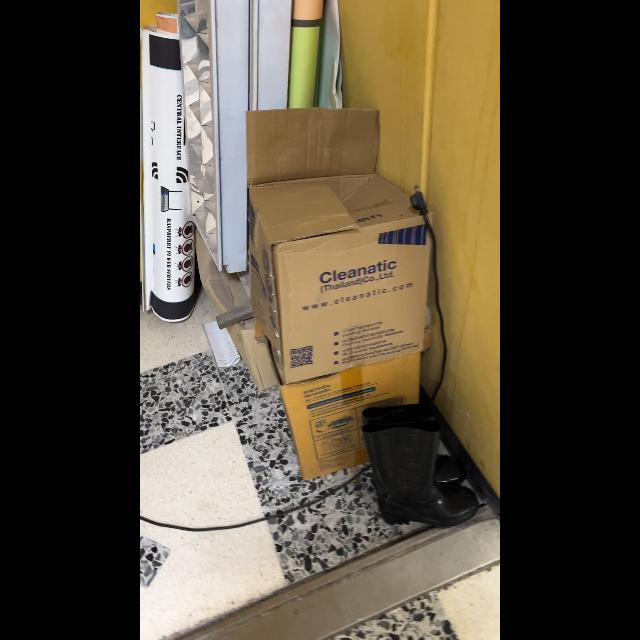cardboard_box: (245, 104, 429, 388), (252, 322, 428, 476)
